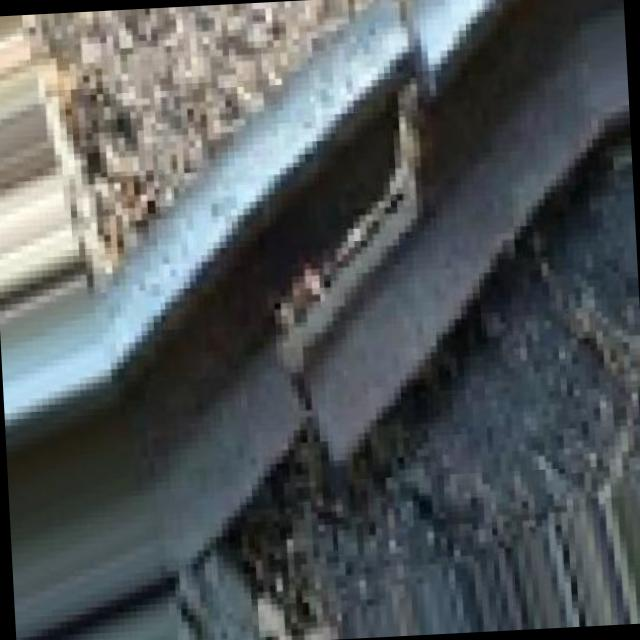defective: (4, 0, 555, 627)
